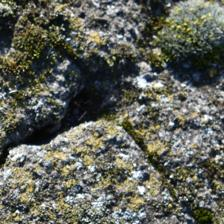Crack: (7, 58, 122, 167)
